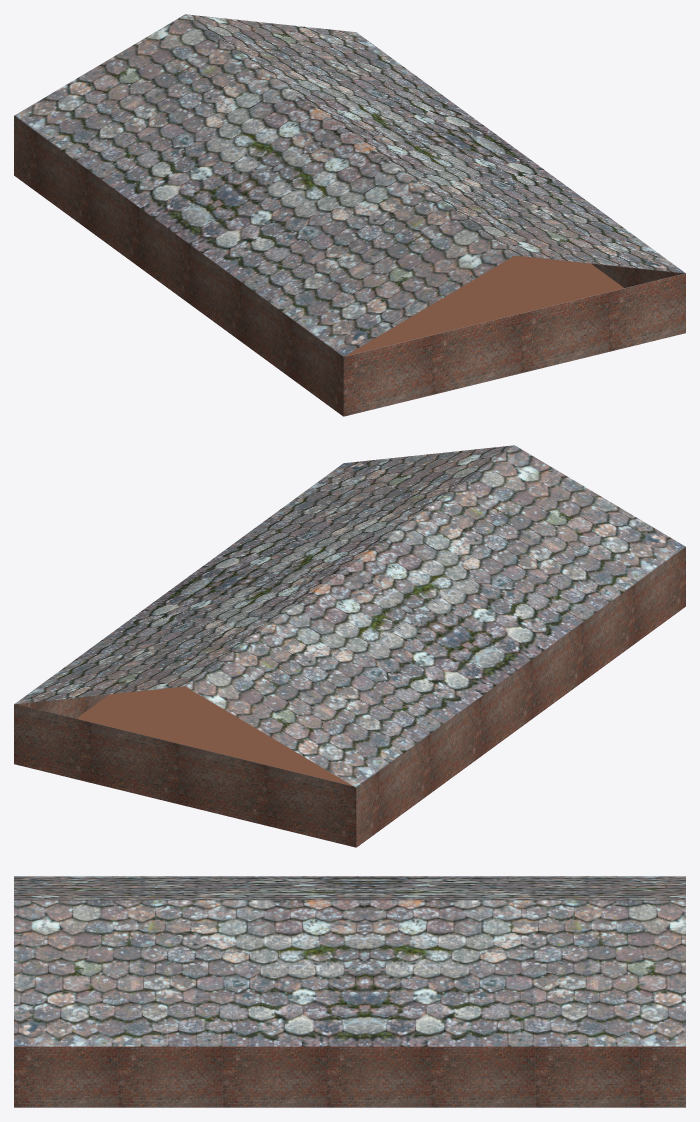
File: house.fbx
3 views of the same model, one above another, from view 1: azimuth 30°, elevation 25°; view 2: azimuth 150°, elevation 25°; view 3: azimuth 270°, elevation 25° (orthographic).
Visible parts, largest first — view 1: Cube; view 2: Cube; view 3: Cube.
Boxes of the visible parts, left/top/right/bottom form: Cube: left=14, top=14, right=685, bottom=416; Cube: left=14, top=445, right=685, bottom=847; Cube: left=14, top=876, right=685, bottom=1107.
Size of the model in its own units: 60 by 20 by 100.
1 material, 1 textured.
